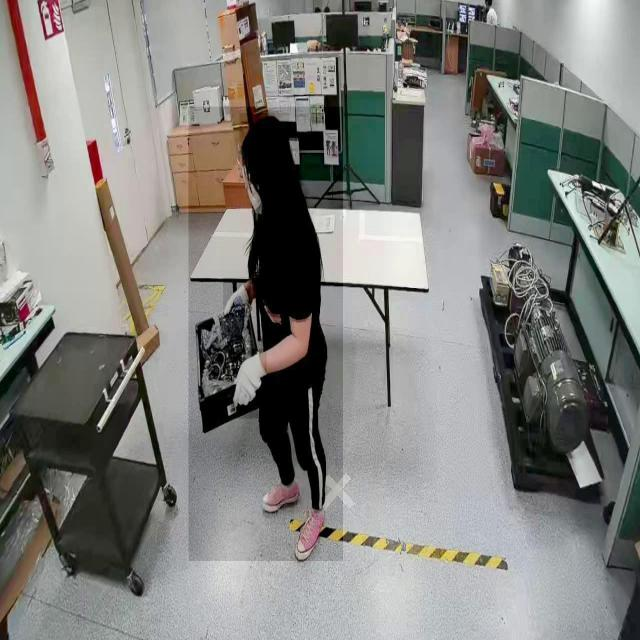face_mask: (237, 164, 267, 230)
hand_glove: (231, 348, 267, 419), (223, 278, 251, 318)
head_nohelmet: (240, 113, 290, 155)
person: (188, 106, 344, 562)
shoes: (292, 503, 328, 563), (261, 474, 302, 516)
